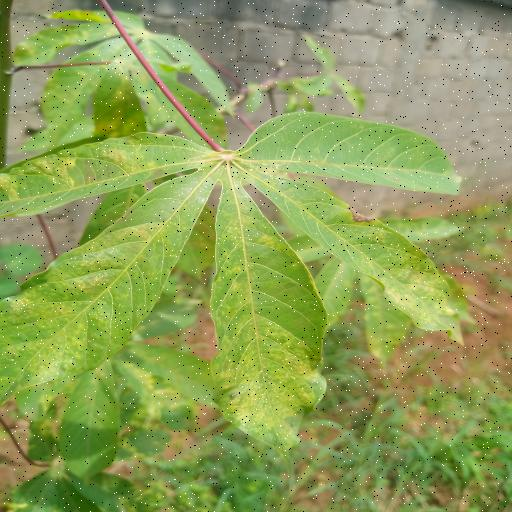Cassava_Mosaic: (0, 113, 470, 462), (20, 7, 242, 144)
